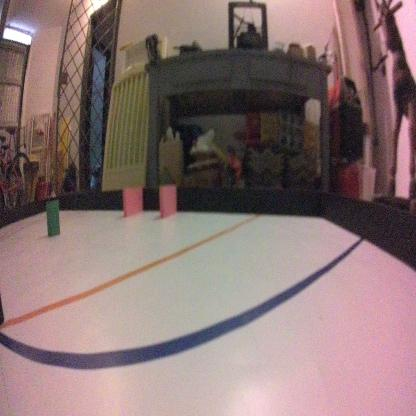green: (44, 195, 60, 240)
magenta: (122, 185, 142, 218), (159, 184, 175, 219)
